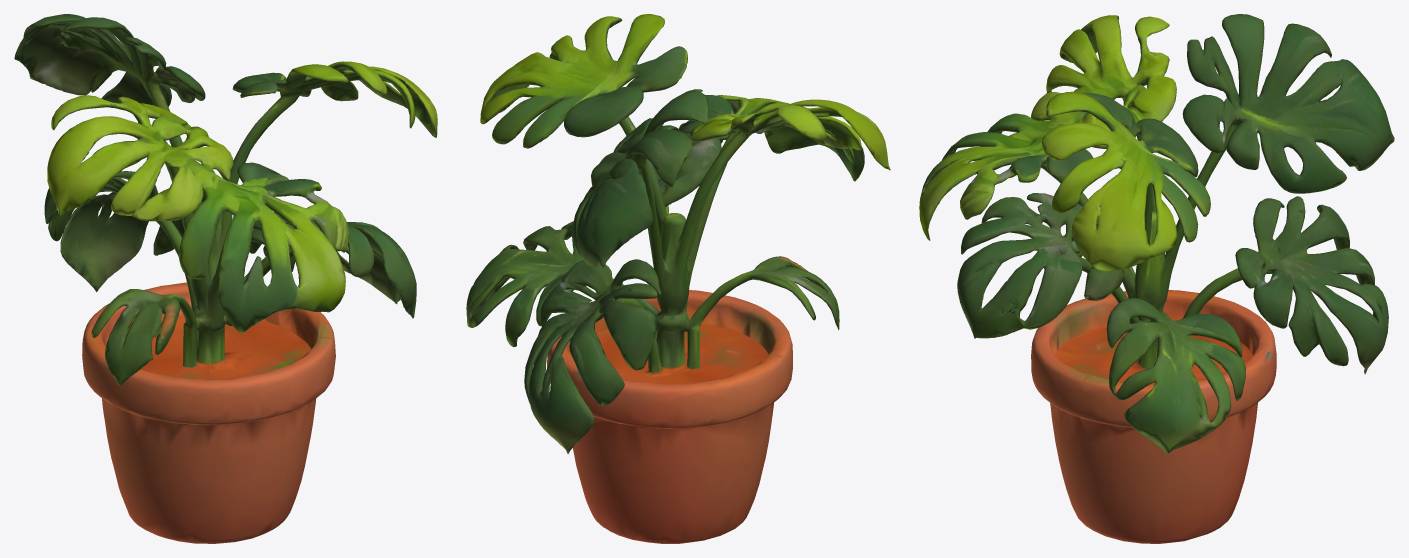
Rendered from monstera.glb.
3 renders of one model, left to right at view 1: azimuth 30°, elevation 25°; view 2: azimuth 150°, elevation 25°; view 3: azimuth 270°, elevation 25°, orthographic. The views are drawn at different scales.
Visible parts, largest first — view 1: tripo_node_412fe562-3684-4cd7-a084-c77901fbb3cb; view 2: tripo_node_412fe562-3684-4cd7-a084-c77901fbb3cb; view 3: tripo_node_412fe562-3684-4cd7-a084-c77901fbb3cb.
Boxes of the visible parts, box(x1,y1,x2,y2) form: tripo_node_412fe562-3684-4cd7-a084-c77901fbb3cb: box(14, 14, 437, 543); tripo_node_412fe562-3684-4cd7-a084-c77901fbb3cb: box(466, 14, 890, 543); tripo_node_412fe562-3684-4cd7-a084-c77901fbb3cb: box(919, 14, 1394, 543).
Bounding box in the file's own units: 0.8563 × 0.9995 × 0.9251.
1 material, 1 textured.
